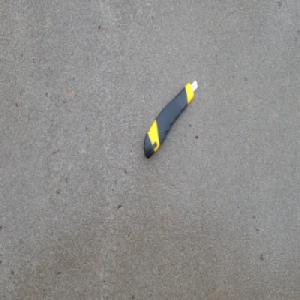Cutter: (143, 77, 199, 159)
